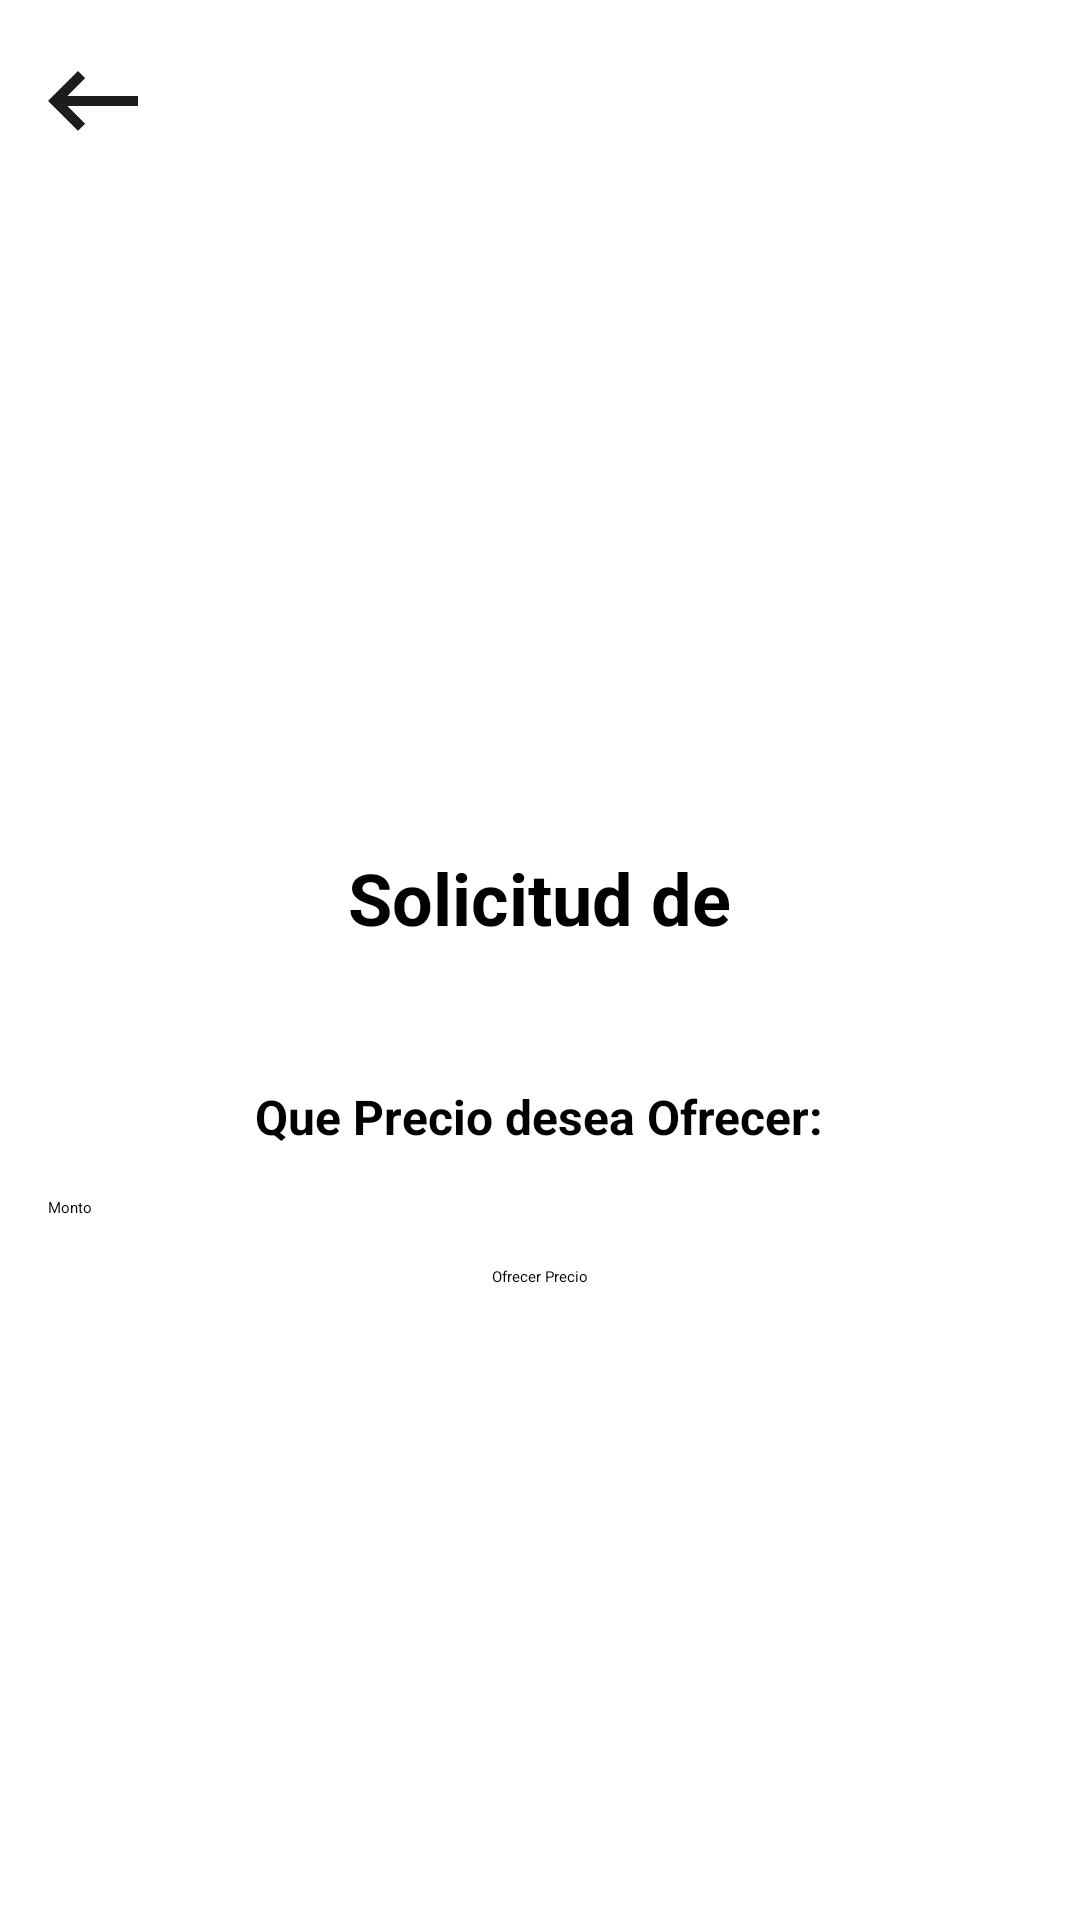

Icons on this 1080*1920 Android screen, each with its box as (x1, y1, x2, y2):
flechatras: (48, 71, 138, 131)
